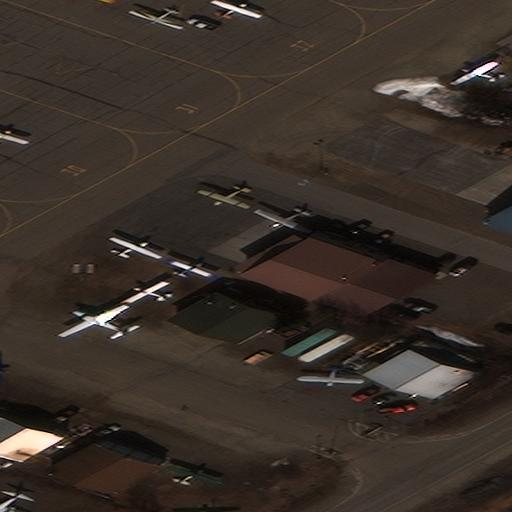Medium Civil Transport: (56, 304, 125, 335), (0, 492, 28, 512)
Small Civil Transport: (294, 365, 362, 386), (254, 208, 309, 233), (195, 186, 247, 209), (127, 9, 181, 30), (120, 280, 165, 303), (169, 465, 222, 484), (112, 236, 162, 256), (450, 61, 494, 83), (213, 0, 262, 17), (170, 260, 212, 276), (0, 129, 29, 143)
